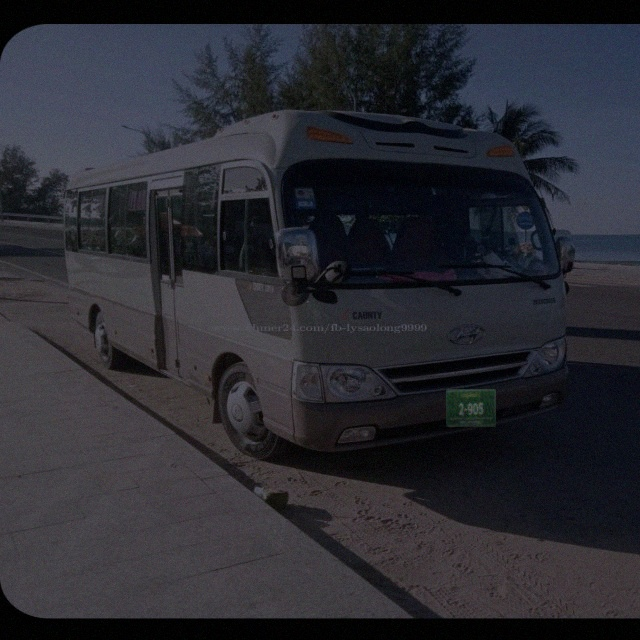Plate Number: (447, 390, 496, 428)
